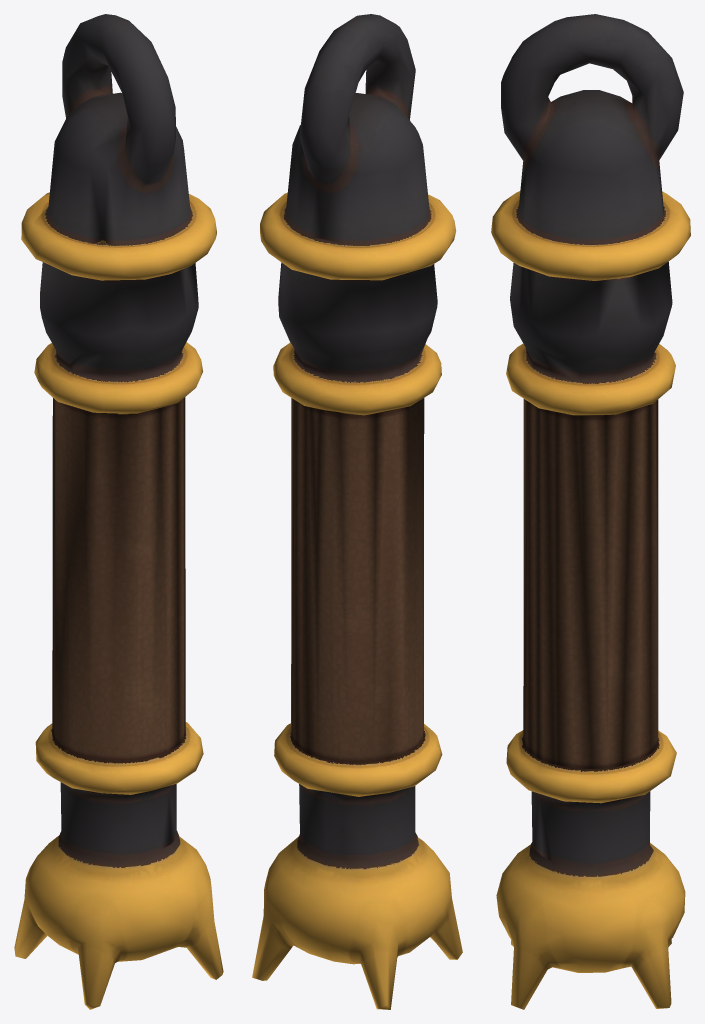
The model's file is boss_varkhul_flail.glb.
3 views of the same model, side by side, from view 1: azimuth 30°, elevation 25°; view 2: azimuth 150°, elevation 25°; view 3: azimuth 270°, elevation 25° (orthographic).
Parts seen in each view (by area): view 1: boss_varkhul_flail; view 2: boss_varkhul_flail; view 3: boss_varkhul_flail.
Part boxes in pixels (left/top/right/bottom): boss_varkhul_flail: left=14, top=14, right=223, bottom=1009; boss_varkhul_flail: left=252, top=14, right=462, bottom=1009; boss_varkhul_flail: left=491, top=14, right=690, bottom=1009.
Bounding box in the file's own units: 0.0896 × 0.4727 × 0.089.
1 material, 1 textured.
